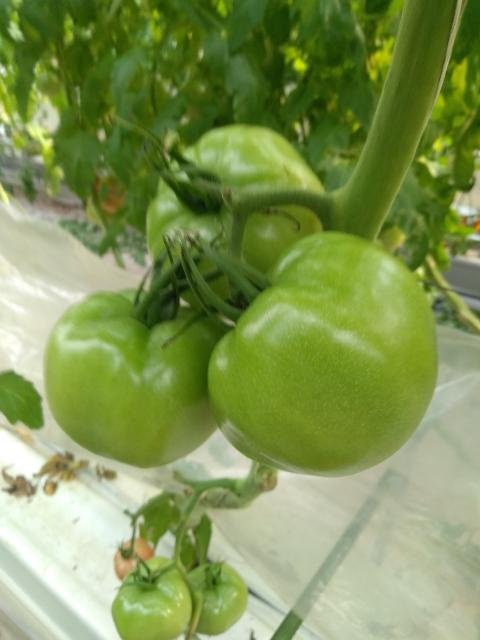b_green: (207, 230, 439, 478), (147, 123, 339, 321), (43, 288, 233, 468), (111, 555, 191, 640), (183, 562, 248, 636)
b_half_ripened: (115, 538, 155, 582)
